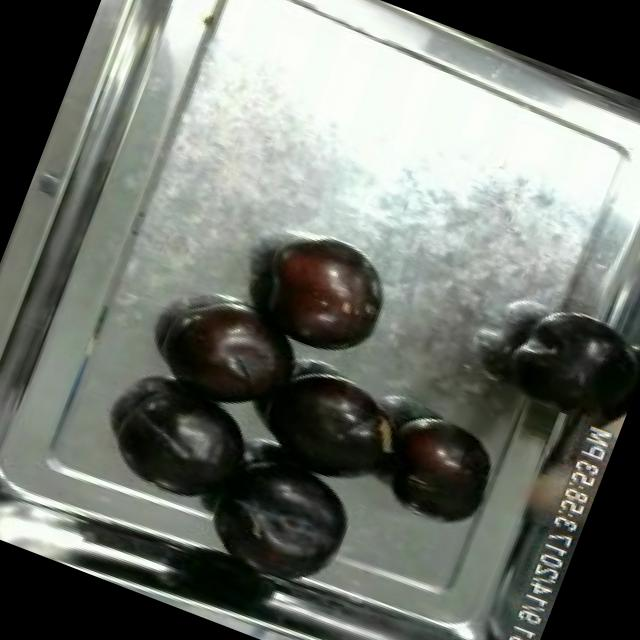Fruit: (240, 346, 418, 507), (192, 433, 374, 586), (97, 364, 268, 522), (144, 275, 313, 434), (238, 219, 406, 374), (484, 285, 640, 442), (362, 394, 512, 544)
